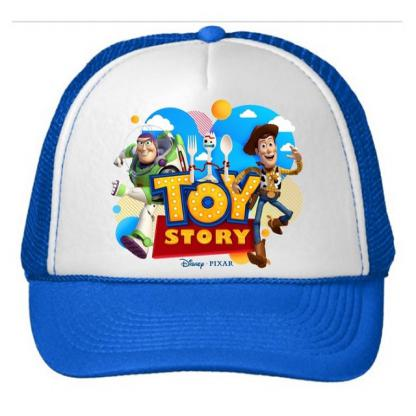cap: (21, 17, 396, 397)
